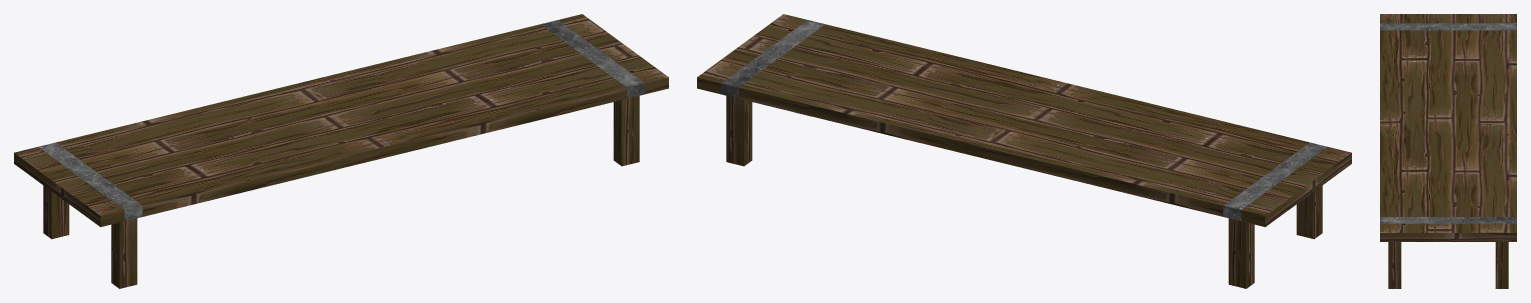
Rendered from long_table.fbx.
The picture shows the model from 3 angles, left to right: view 1: azimuth 30°, elevation 25°; view 2: azimuth 150°, elevation 25°; view 3: azimuth 270°, elevation 25°; orthographic projection. The views are drawn at different scales.
Parts seen in each view (by area): view 1: Table1; view 2: Table1; view 3: Table1.
Boxes of the visible parts, x1,y1,x2,y2 form: Table1: (14,14,668,288); Table1: (697,14,1351,288); Table1: (1380,14,1516,288).
Bounding box in the file's own units: 670 × 93.16 × 177.
